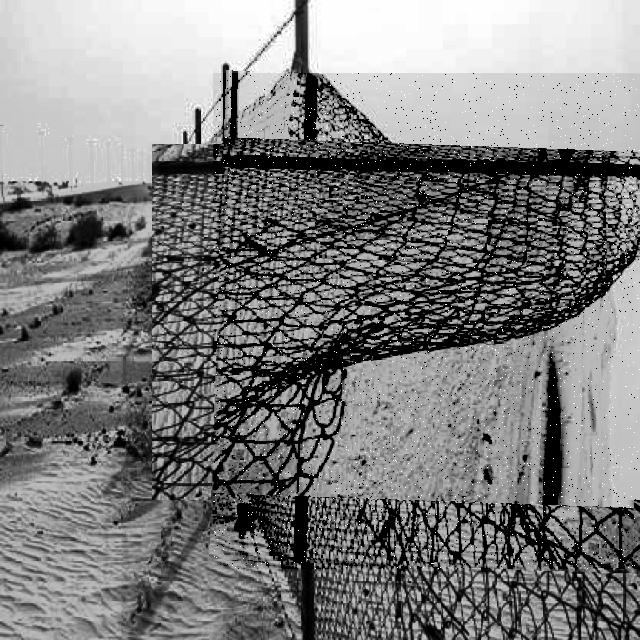anomaly-fence: (213, 73, 640, 569)
